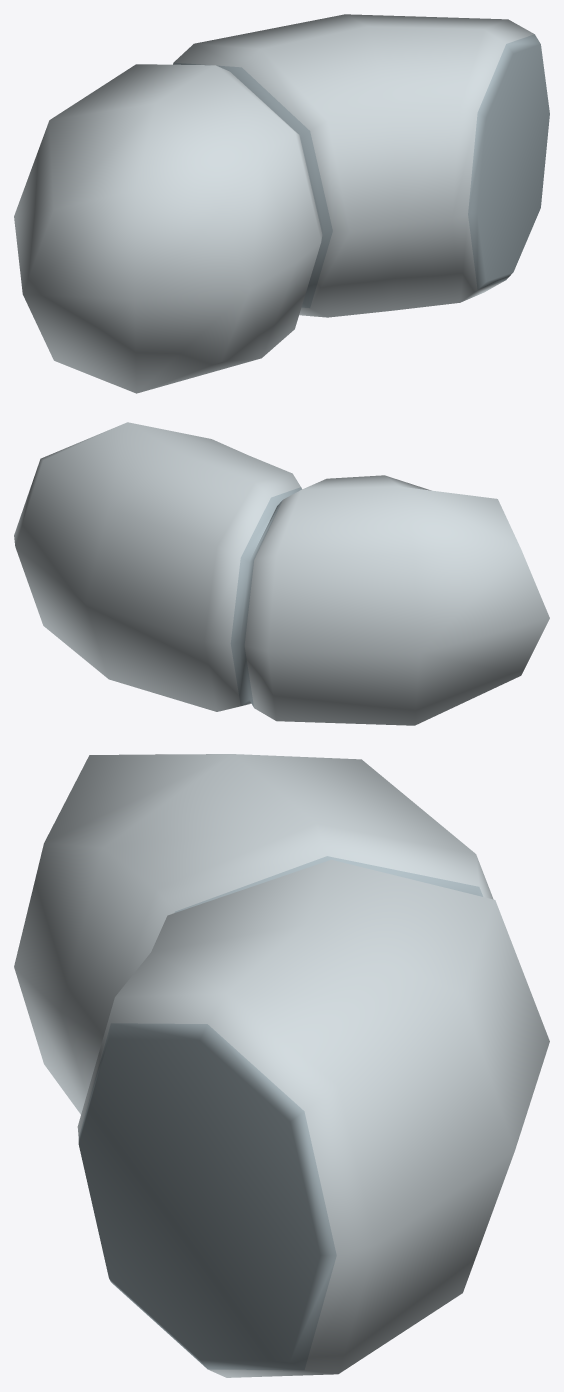
File: Shrimp_2_Peeled_1_Half_1.fbx
3 views of the same model, one above another, from view 1: azimuth 30°, elevation 25°; view 2: azimuth 150°, elevation 25°; view 3: azimuth 270°, elevation 25° (orthographic). The views are drawn at different scales.
Parts seen in each view (by area): view 1: Shrimp_2_Peeled_1_Half_1; view 2: Shrimp_2_Peeled_1_Half_1; view 3: Shrimp_2_Peeled_1_Half_1.
Part boxes in pixels (x1,y1,x2,y2): Shrimp_2_Peeled_1_Half_1: [14, 14, 549, 393]; Shrimp_2_Peeled_1_Half_1: [14, 422, 549, 725]; Shrimp_2_Peeled_1_Half_1: [14, 754, 549, 1377].
Bounding box in the file's own units: 8.82 × 3.95 × 4.83.
